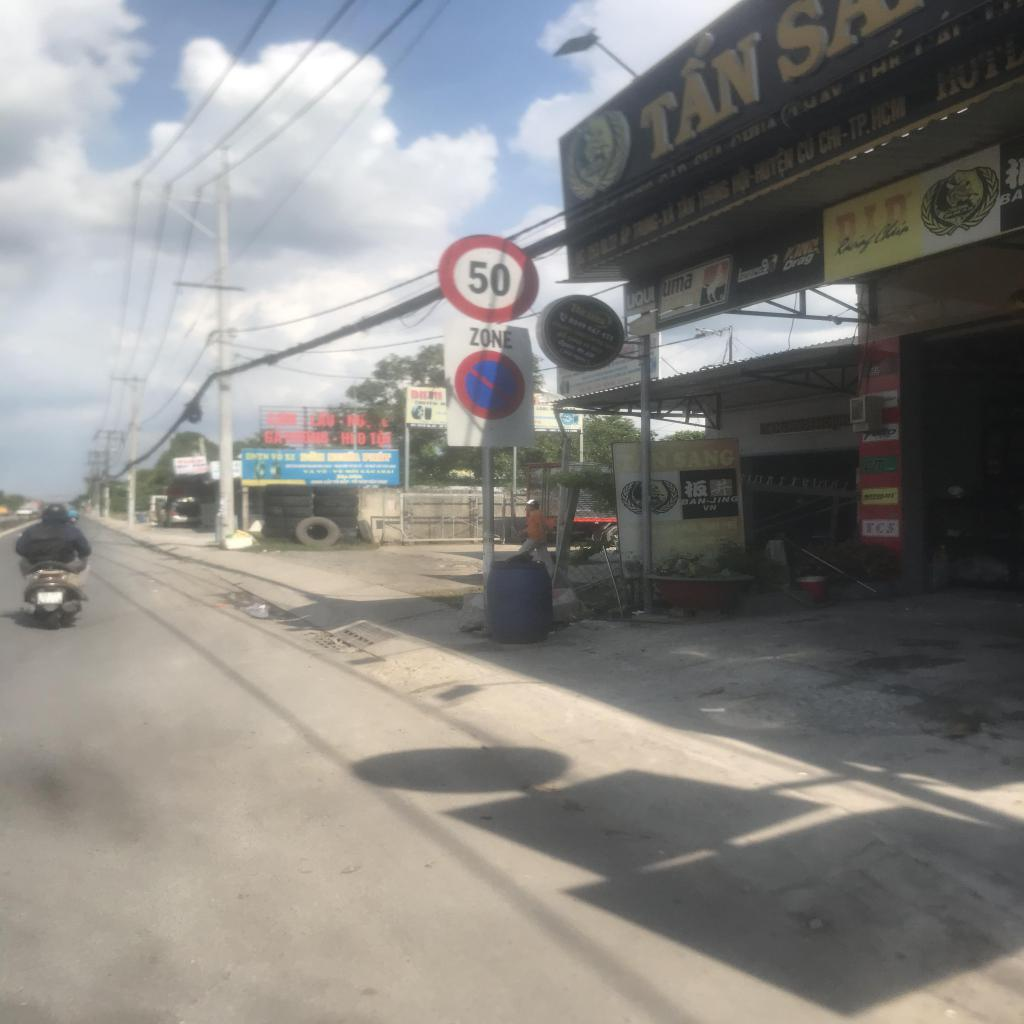cam_dung_xe_va_do_xe: (456, 350, 524, 420)
toc_do_toi_da_50: (437, 235, 538, 322)
